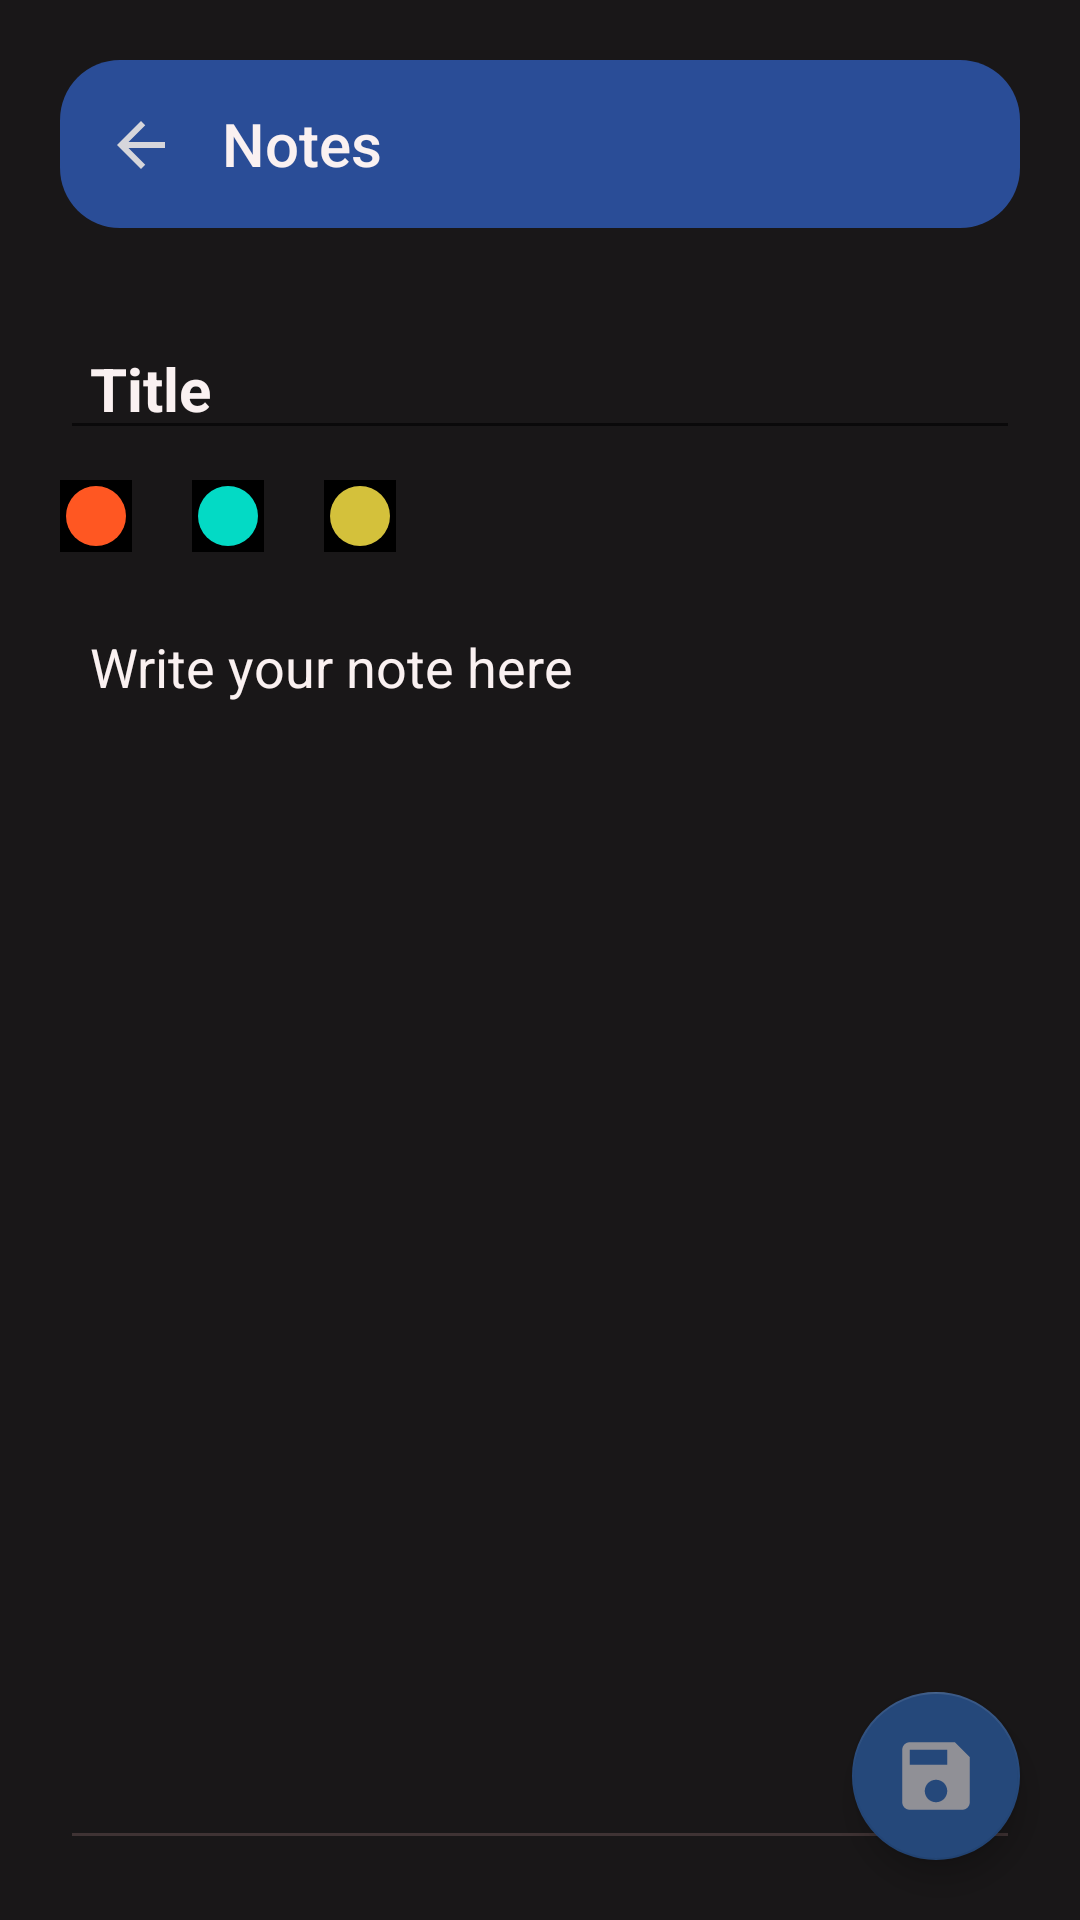

Screen size 1080w x 1920h. Icon name, then its box in pixels as (x1, y1, x2, y2):
arrow back: (117, 121, 165, 169)
save: (852, 1692, 1020, 1860)
